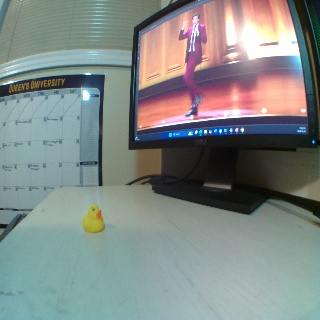duck_regular: (82, 203, 105, 234)
